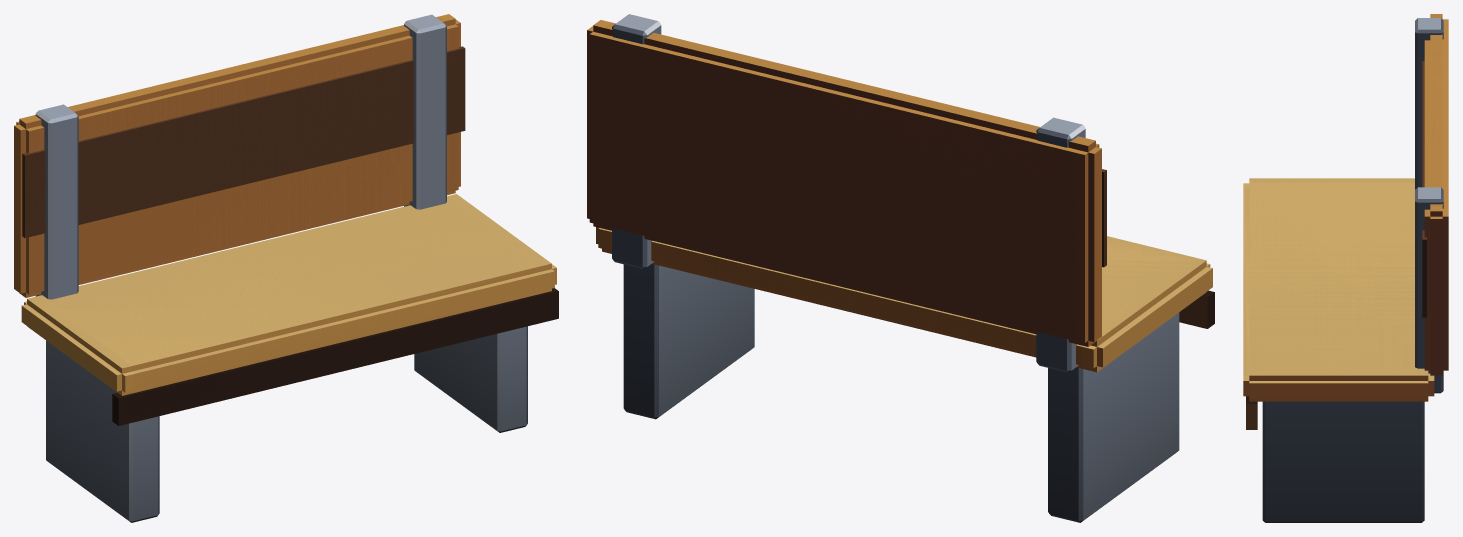
File: bench_set.glb
3 views of the same model, side by side, from view 1: azimuth 30°, elevation 25°; view 2: azimuth 150°, elevation 25°; view 3: azimuth 270°, elevation 25° (orthographic). The views are drawn at different scales.
Parts seen in each view (by area): view 1: m0, m2, m3, m1; view 2: m0, m1, m3, m2; view 3: m0, m2, m1, m3.
Boxes of the visible parts, <box> form: m0: <box>29,14,548,522</box>; m2: <box>32,14,558,423</box>; m3: <box>20,15,558,424</box>; m1: <box>14,16,542,425</box>; m0: <box>600,14,1179,522</box>; m1: <box>600,23,1214,372</box>; m3: <box>589,20,1211,370</box>; m2: <box>587,20,1195,368</box>; m0: <box>1243,18,1448,522</box>; m2: <box>1243,35,1448,429</box>; m1: <box>1243,14,1448,376</box>; m3: <box>1243,14,1448,403</box>.
Size of the model in its own units: 1 by 0.75 by 0.43.
